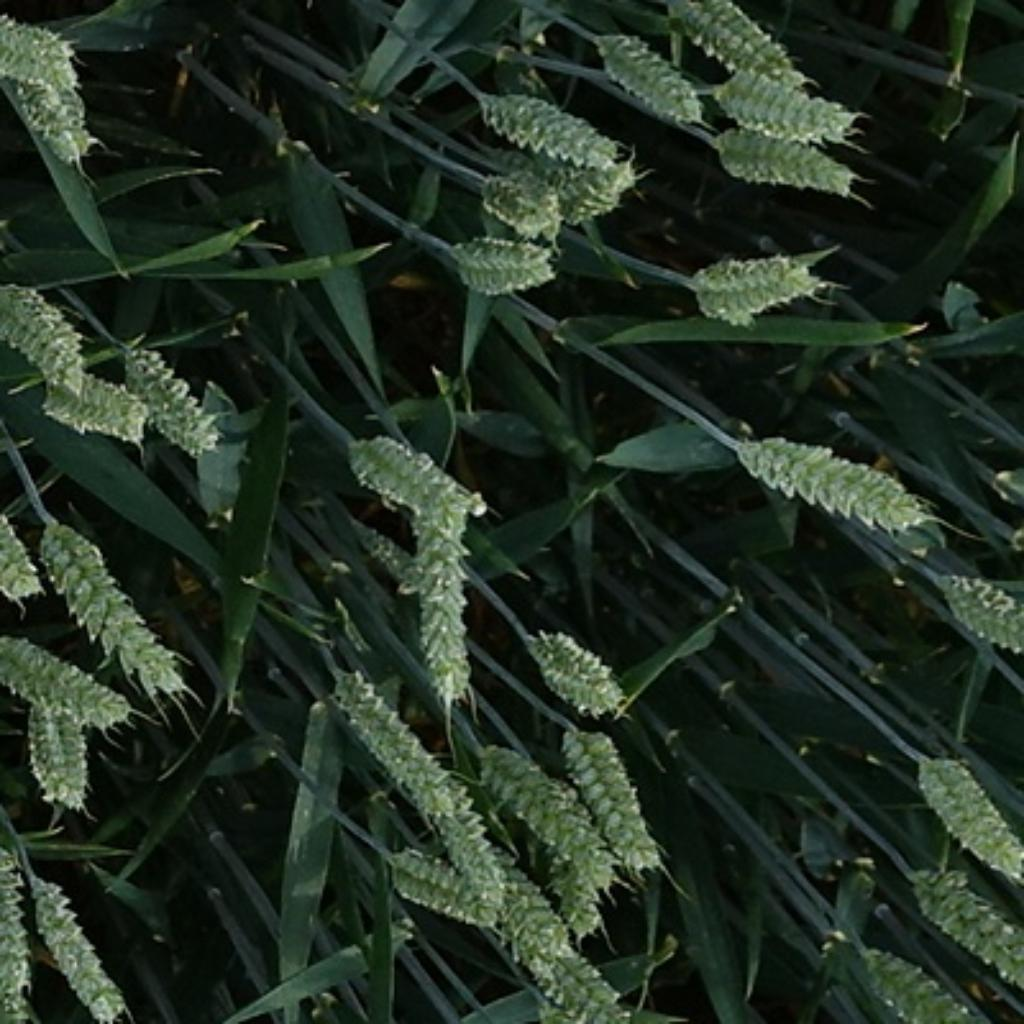0-0: (33, 515, 201, 720), (378, 473, 486, 704), (427, 780, 566, 954), (320, 663, 465, 829), (724, 419, 931, 535), (473, 742, 629, 882), (332, 419, 488, 555), (0, 624, 138, 755), (23, 862, 133, 1024), (893, 847, 1024, 977), (560, 729, 673, 875), (898, 742, 1024, 872), (468, 76, 627, 171), (115, 335, 227, 458), (704, 56, 862, 143), (0, 61, 102, 181), (678, 243, 829, 320), (852, 931, 970, 1024), (588, 23, 701, 120), (373, 842, 509, 921), (517, 619, 629, 714), (514, 151, 657, 225), (701, 128, 865, 192), (20, 680, 97, 816), (509, 939, 632, 1024), (0, 273, 92, 386), (40, 350, 151, 435), (0, 824, 47, 1024), (668, 0, 791, 74), (929, 557, 1024, 651), (435, 230, 565, 296), (458, 166, 568, 235), (0, 0, 74, 102), (543, 855, 621, 948), (0, 468, 33, 596)
